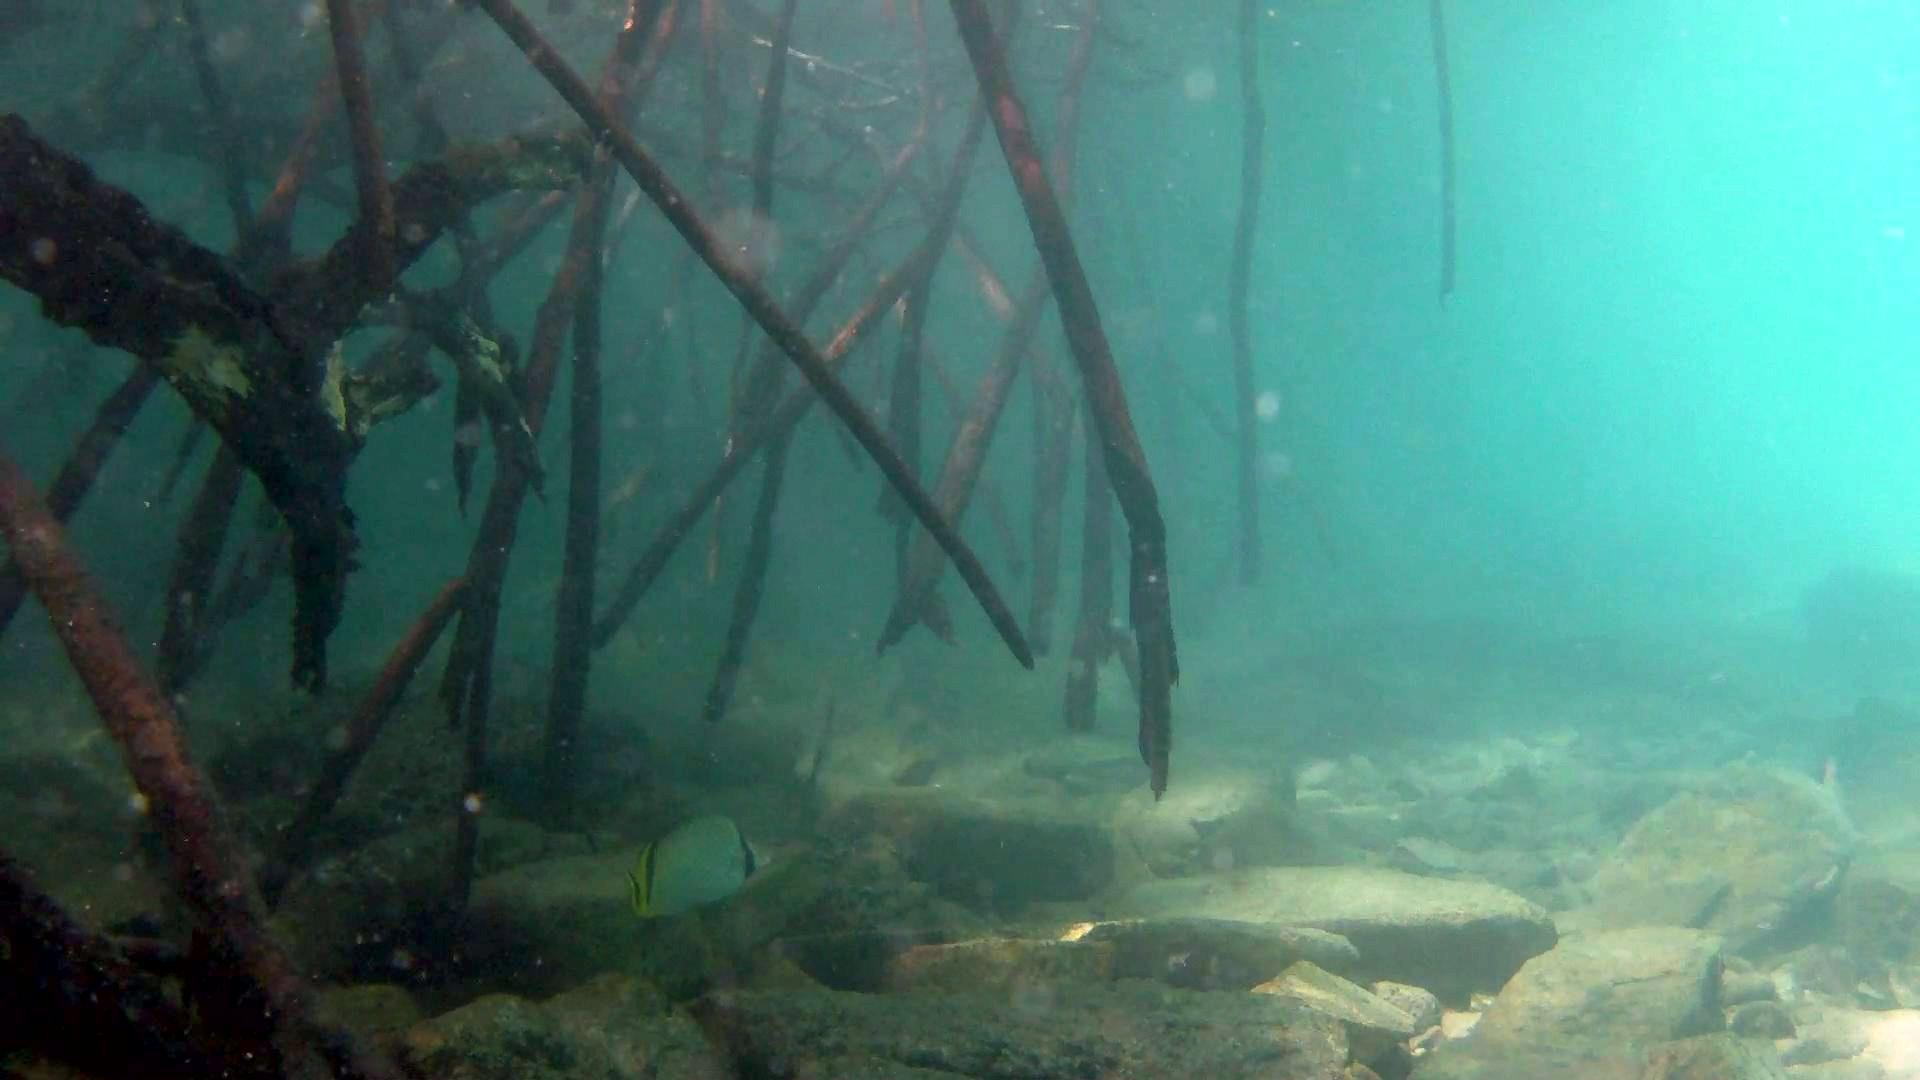chaetodon vagabundus: (618, 810, 773, 920)
